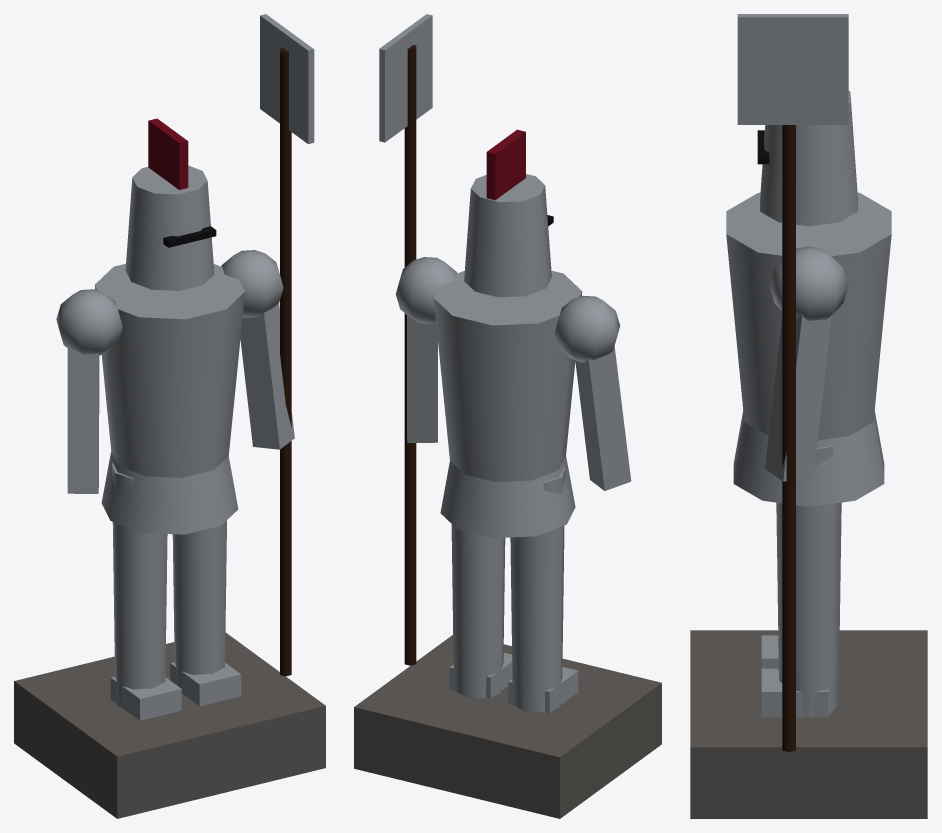
The model's file is ge_suit_of_armour.glb.
3 views of the same model, side by side, from view 1: azimuth 30°, elevation 25°; view 2: azimuth 150°, elevation 25°; view 3: azimuth 270°, elevation 25° (orthographic). The views are drawn at different scales.
Parts seen in each view (by area): view 1: ge_suit_of_armour; view 2: ge_suit_of_armour; view 3: ge_suit_of_armour.
Boxes of the visible parts, x1,y1,x2,y2 form: ge_suit_of_armour: (14,14,325,818); ge_suit_of_armour: (354,14,661,818); ge_suit_of_armour: (690,14,927,818).
Bounding box in the file's own units: 0.7632 × 2.25 × 0.6.
